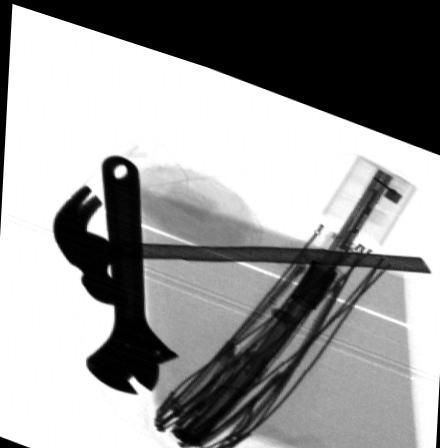Hammer: (52, 177, 433, 297)
Wrench: (84, 146, 179, 384)
